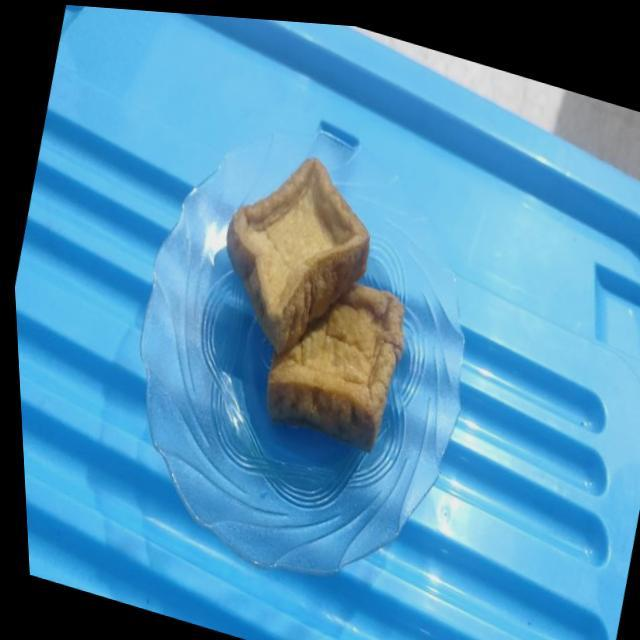tahu_goreng: (226, 158, 370, 354), (267, 284, 404, 452)
